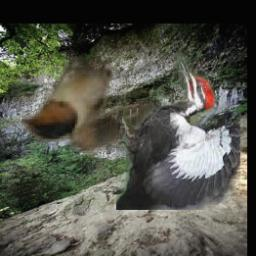Swallow: (21, 61, 154, 154)
Woodpecker: (117, 55, 241, 211)
